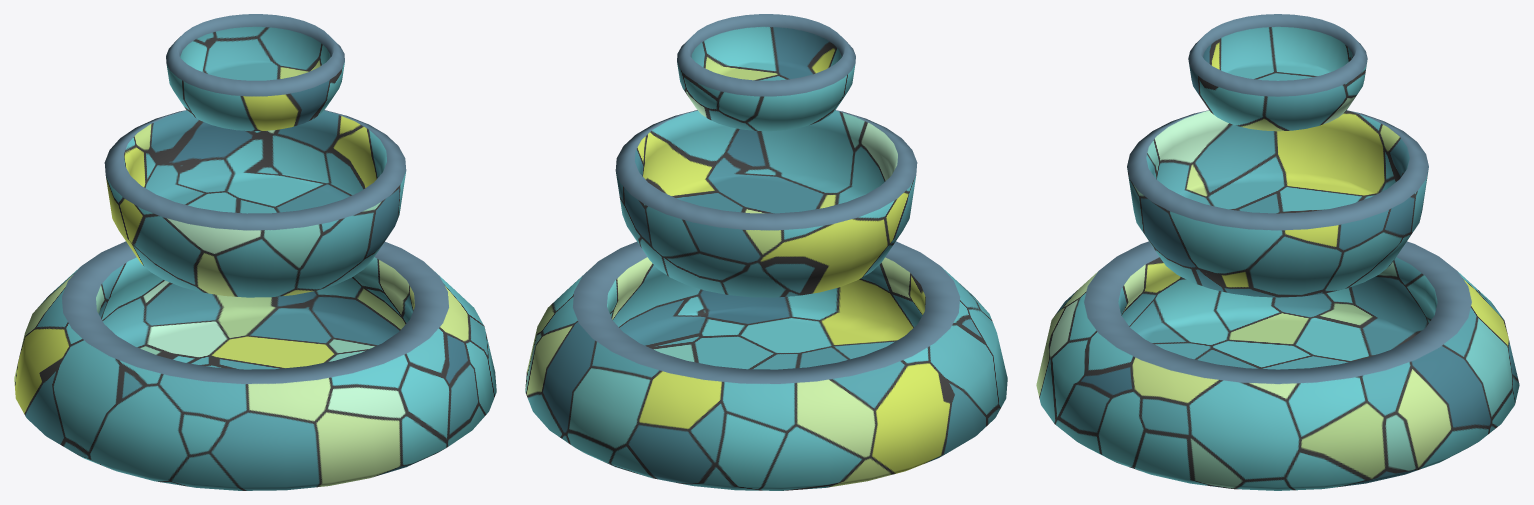
File: Fountain2.fbx
The picture shows the model from 3 angles, left to right: view 1: azimuth 30°, elevation 25°; view 2: azimuth 150°, elevation 25°; view 3: azimuth 270°, elevation 25°; orthographic projection.
Parts seen in each view (by area): view 1: Fountain; view 2: Fountain; view 3: Fountain.
Part boxes in pixels (x1,y1,x2,y2): Fountain: [14, 14, 496, 490]; Fountain: [525, 14, 1007, 490]; Fountain: [1036, 14, 1519, 490].
Bounding box in the file's own units: 1838 × 1455 × 1838.
2 materials, 1 textured.
